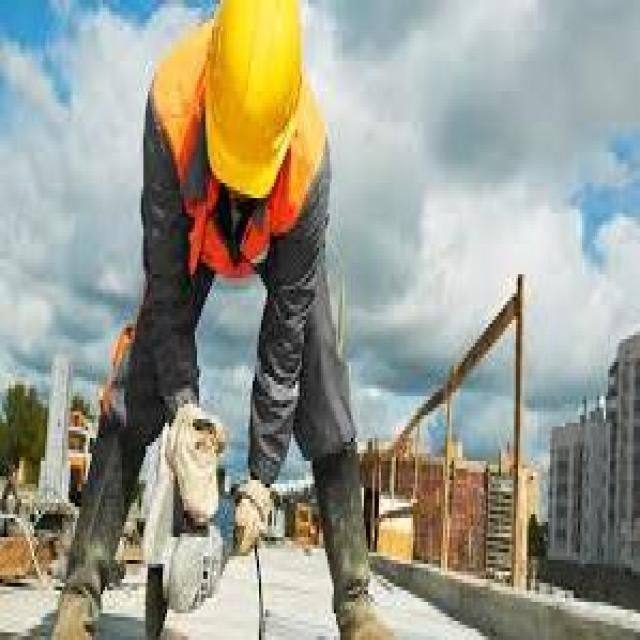Reflective-Jacket: (137, 12, 338, 294)
Safety-Helmet: (192, 4, 332, 232)
